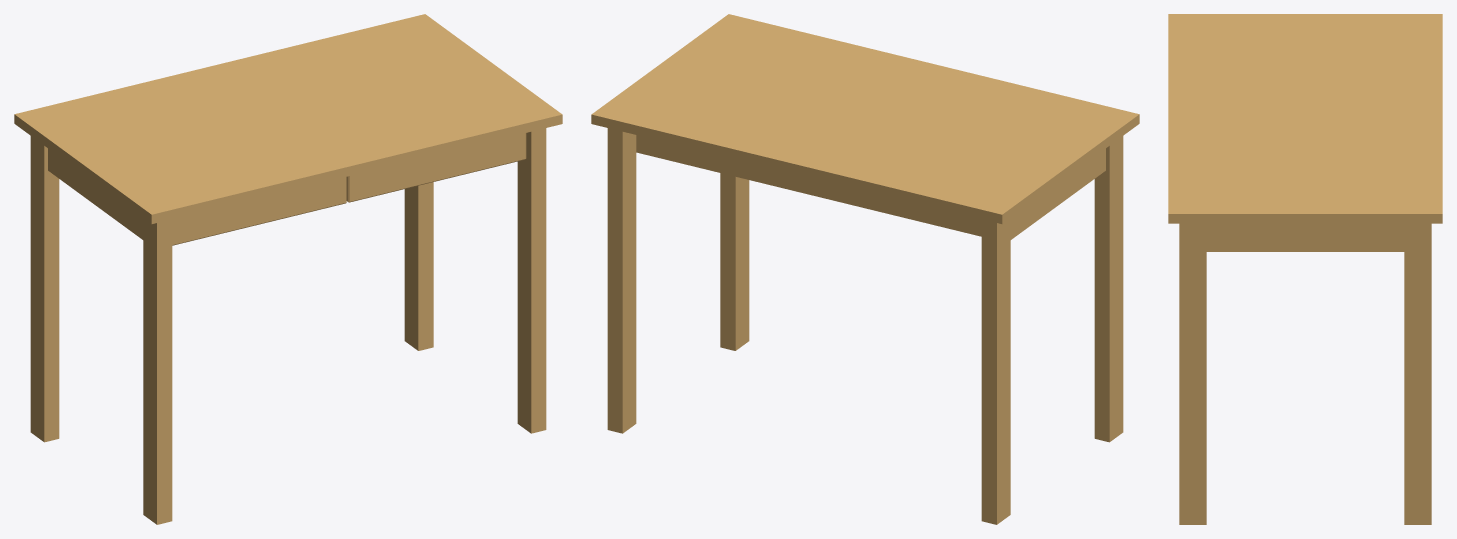
Rendered from 346_デスク.glb.
The picture shows the model from 3 angles, left to right: view 1: azimuth 30°, elevation 25°; view 2: azimuth 150°, elevation 25°; view 3: azimuth 270°, elevation 25°; orthographic projection.
Parts seen in each view (by area): view 1: Body1, 引き出し右, 引き出し左; view 2: Body1; view 3: Body1.
Boxes of the visible parts, x1,y1,x2,y2 form: Body1: [14, 14, 562, 524]; 引き出し右: [346, 133, 526, 202]; 引き出し左: [172, 177, 346, 245]; Body1: [591, 14, 1139, 524]; Body1: [1168, 14, 1442, 524].
Bounding box in the file's own units: 0.95 × 0.7 × 0.55.
